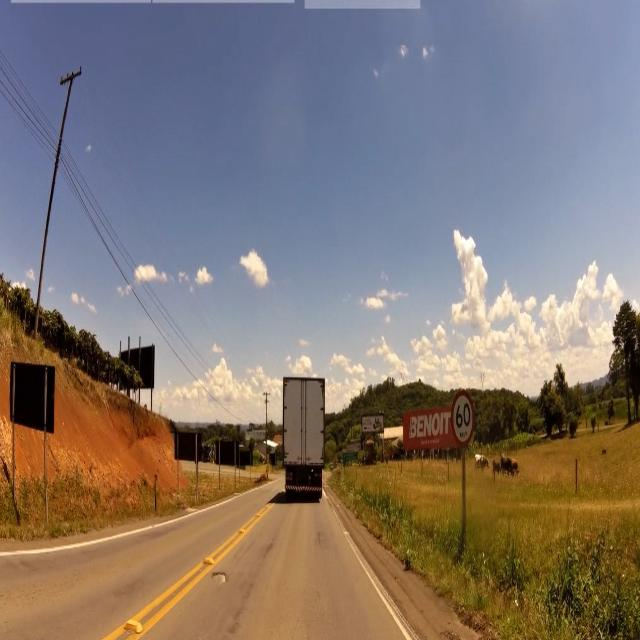R-19: (449, 388, 476, 445)
